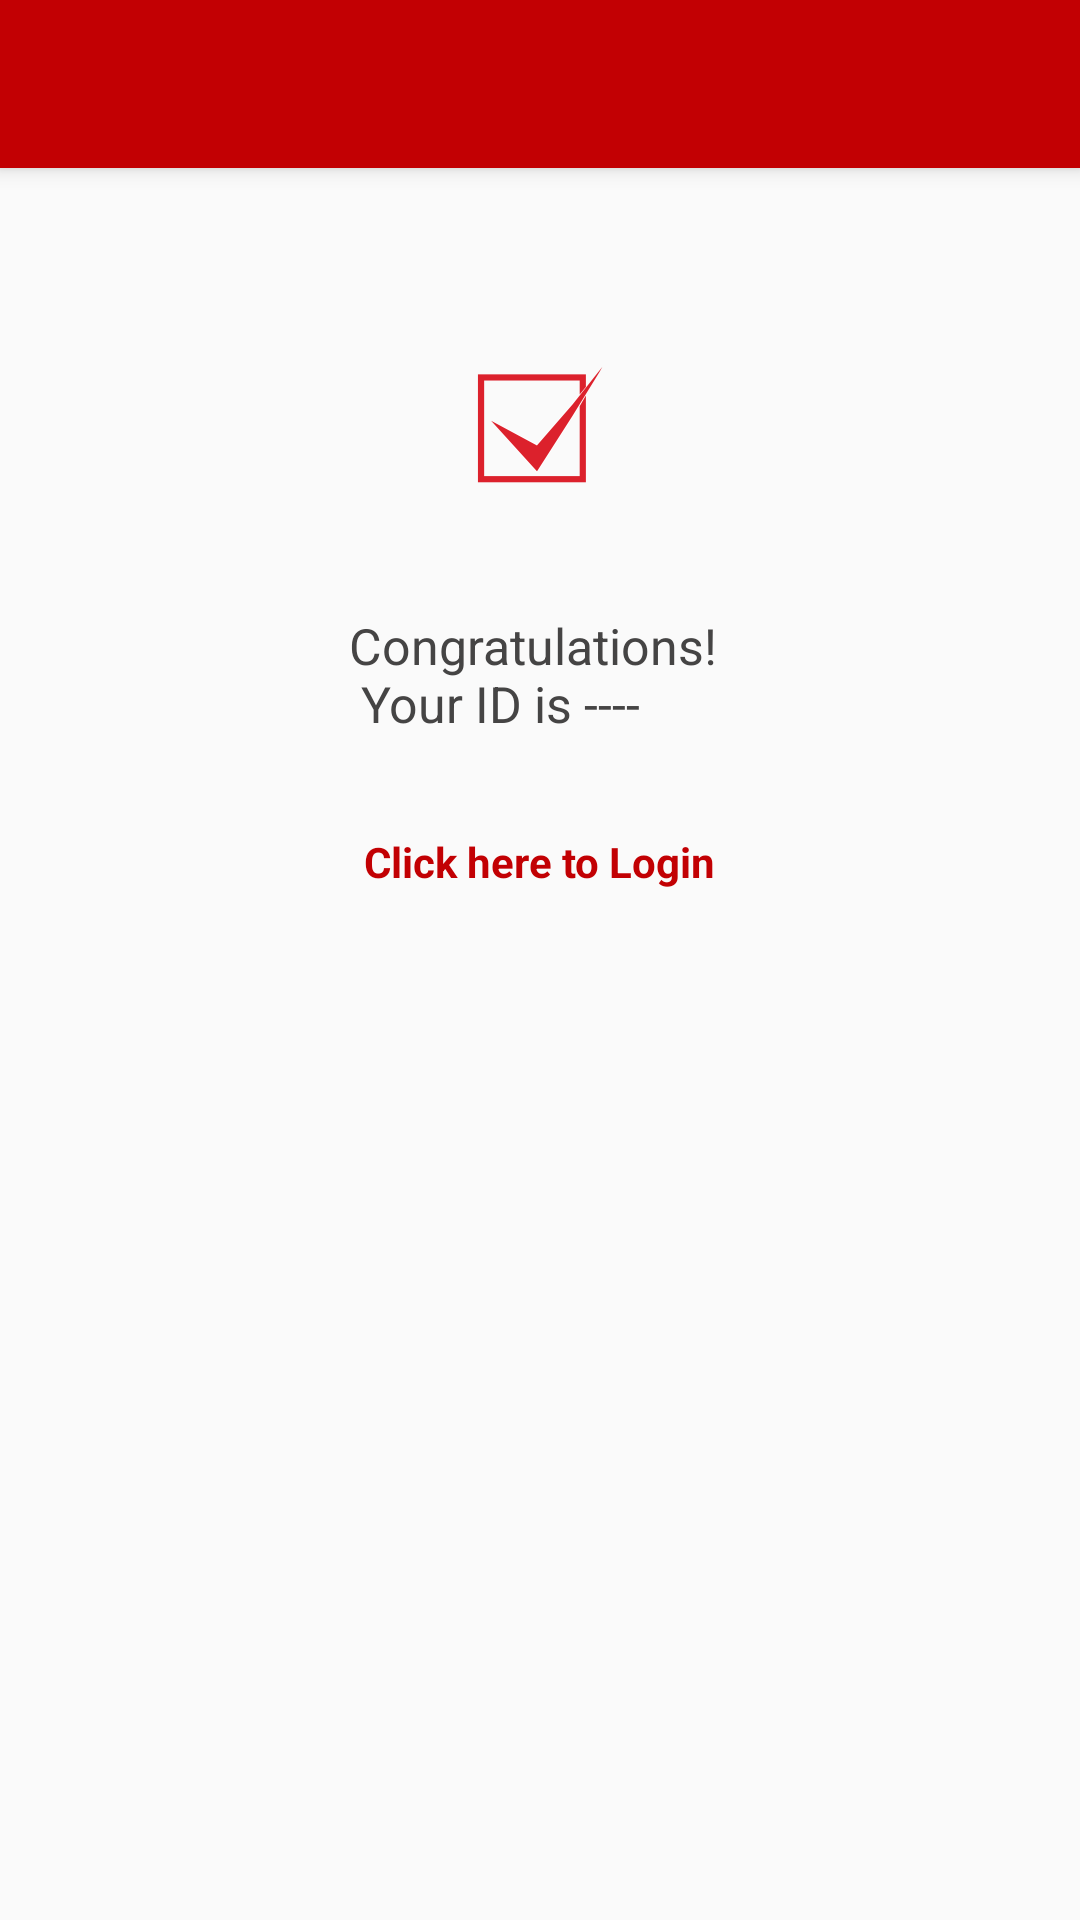

Named icons in this screenshot (1080px×1920px) and their centers, [x,y]:
tick: [540,425]
